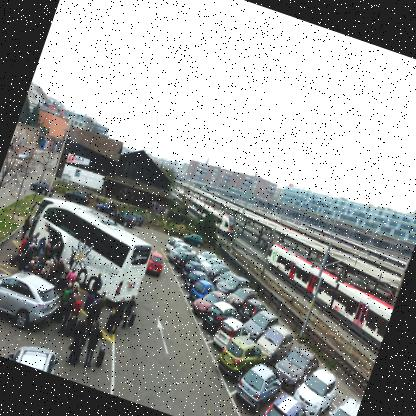Car: (0, 167, 396, 415)
